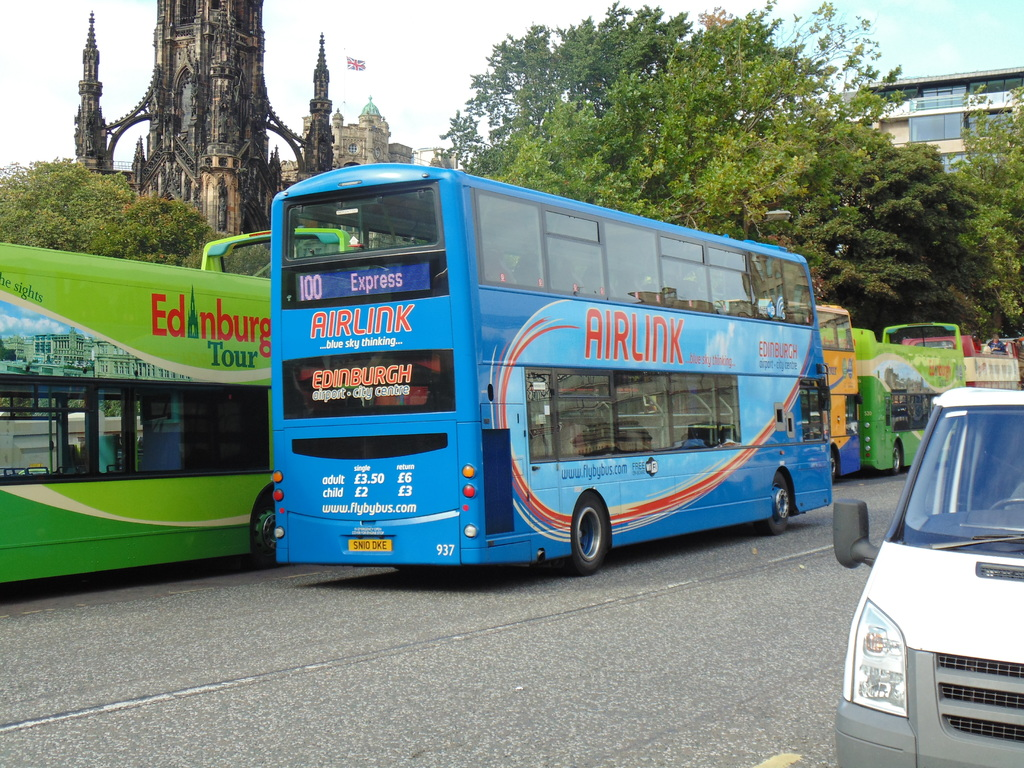Bus: (0, 159, 1023, 580)
